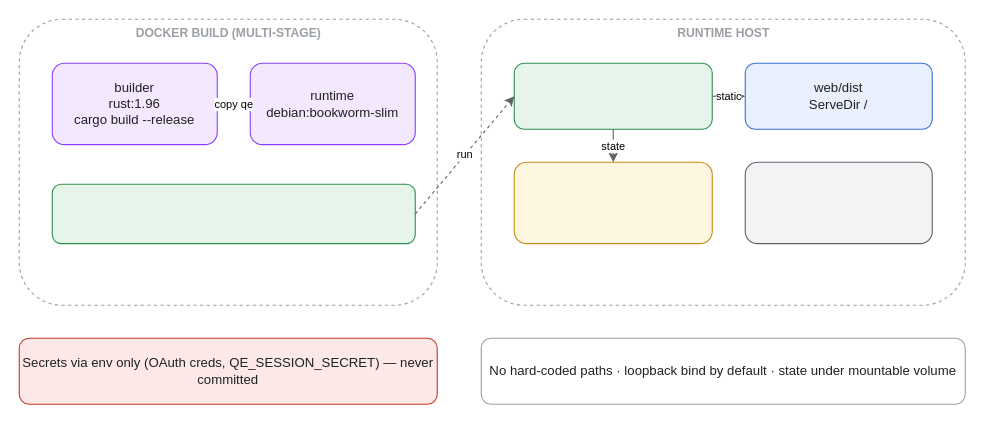
The diagram is 985 pixels wide and 424 high, and some of its shapes have lost their labels. The centre of each missing label's shape, as x and y in pixels:
"/app/data (VOLUME) LMDB · vintages · runs/" goes at (612,202).
"qe binary (ENTRYPOINT qe) same binary as local run" goes at (233,213).
"qe-server bind 127.0.0.1:8080" goes at (612,95).
"QE_* env / config.toml 12-factor overrides" goes at (838,202).
